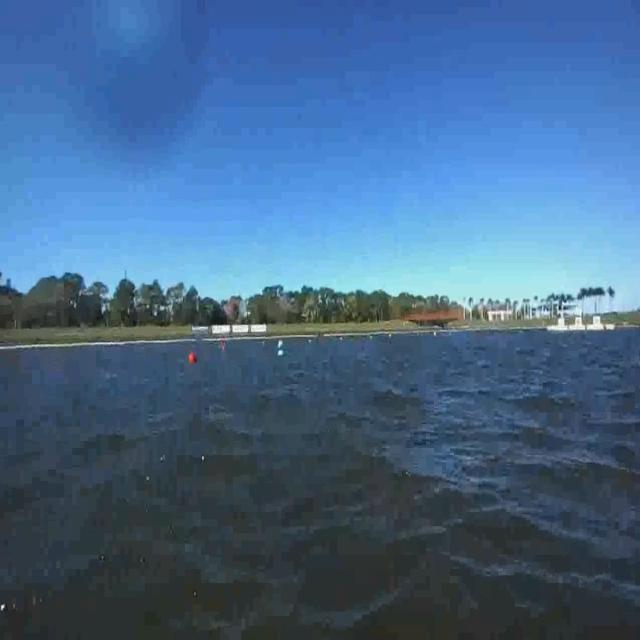green-buoy: (276, 344, 284, 363)
red-buoy: (188, 351, 196, 364), (219, 338, 224, 356)
